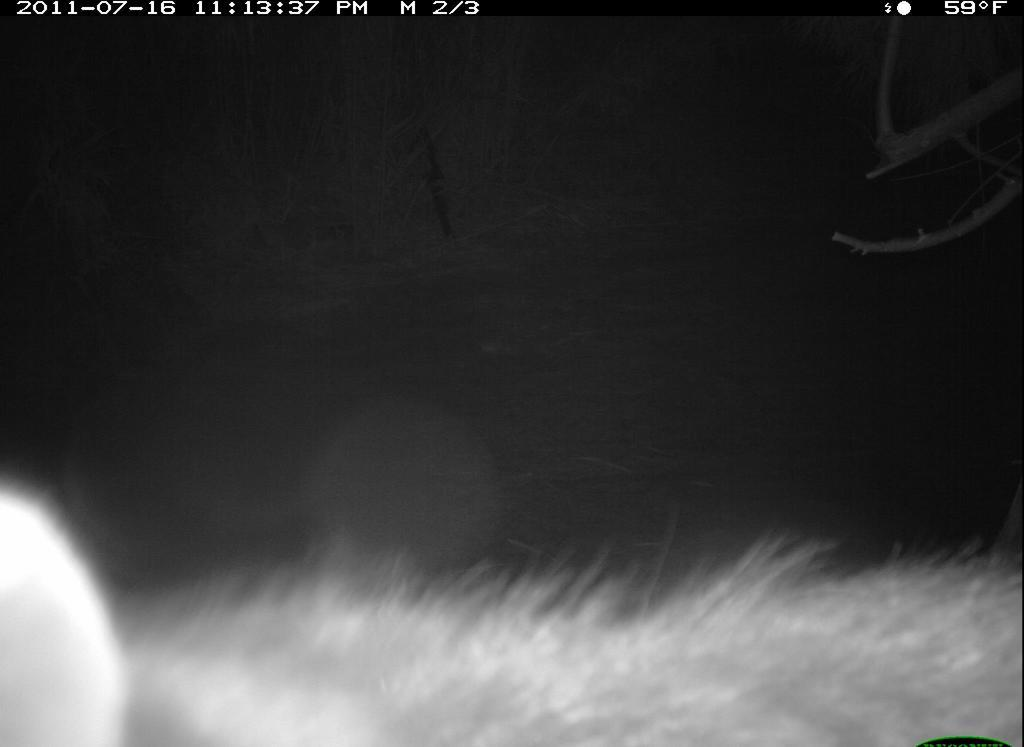raccoon: (8, 432, 1018, 745)
